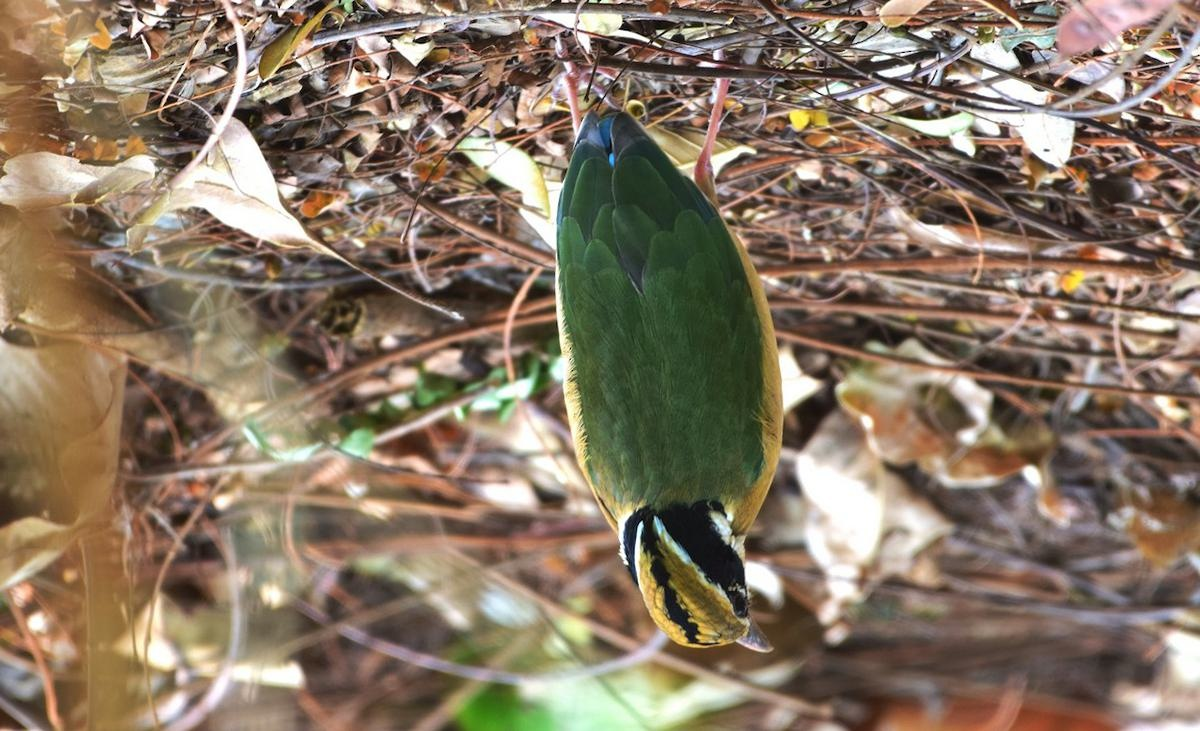pitta: (535, 130, 807, 693)
